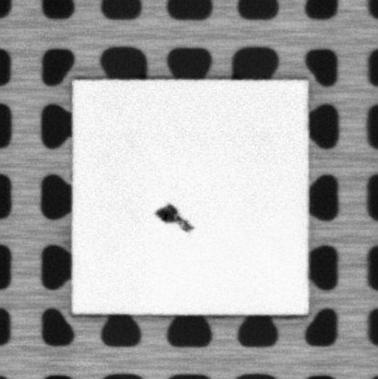DIE_INK: (154, 203, 195, 233)
